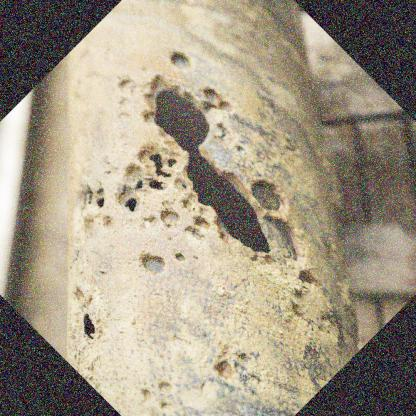burst: (153, 80, 292, 261)
